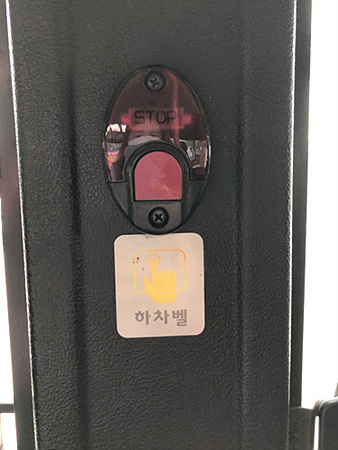bell: (101, 63, 212, 235)
